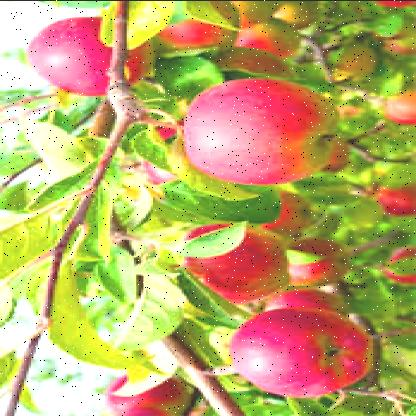apple: (177, 80, 323, 182), (227, 312, 373, 394), (19, 13, 153, 101), (172, 228, 284, 300), (165, 1, 241, 55), (100, 374, 184, 416)
